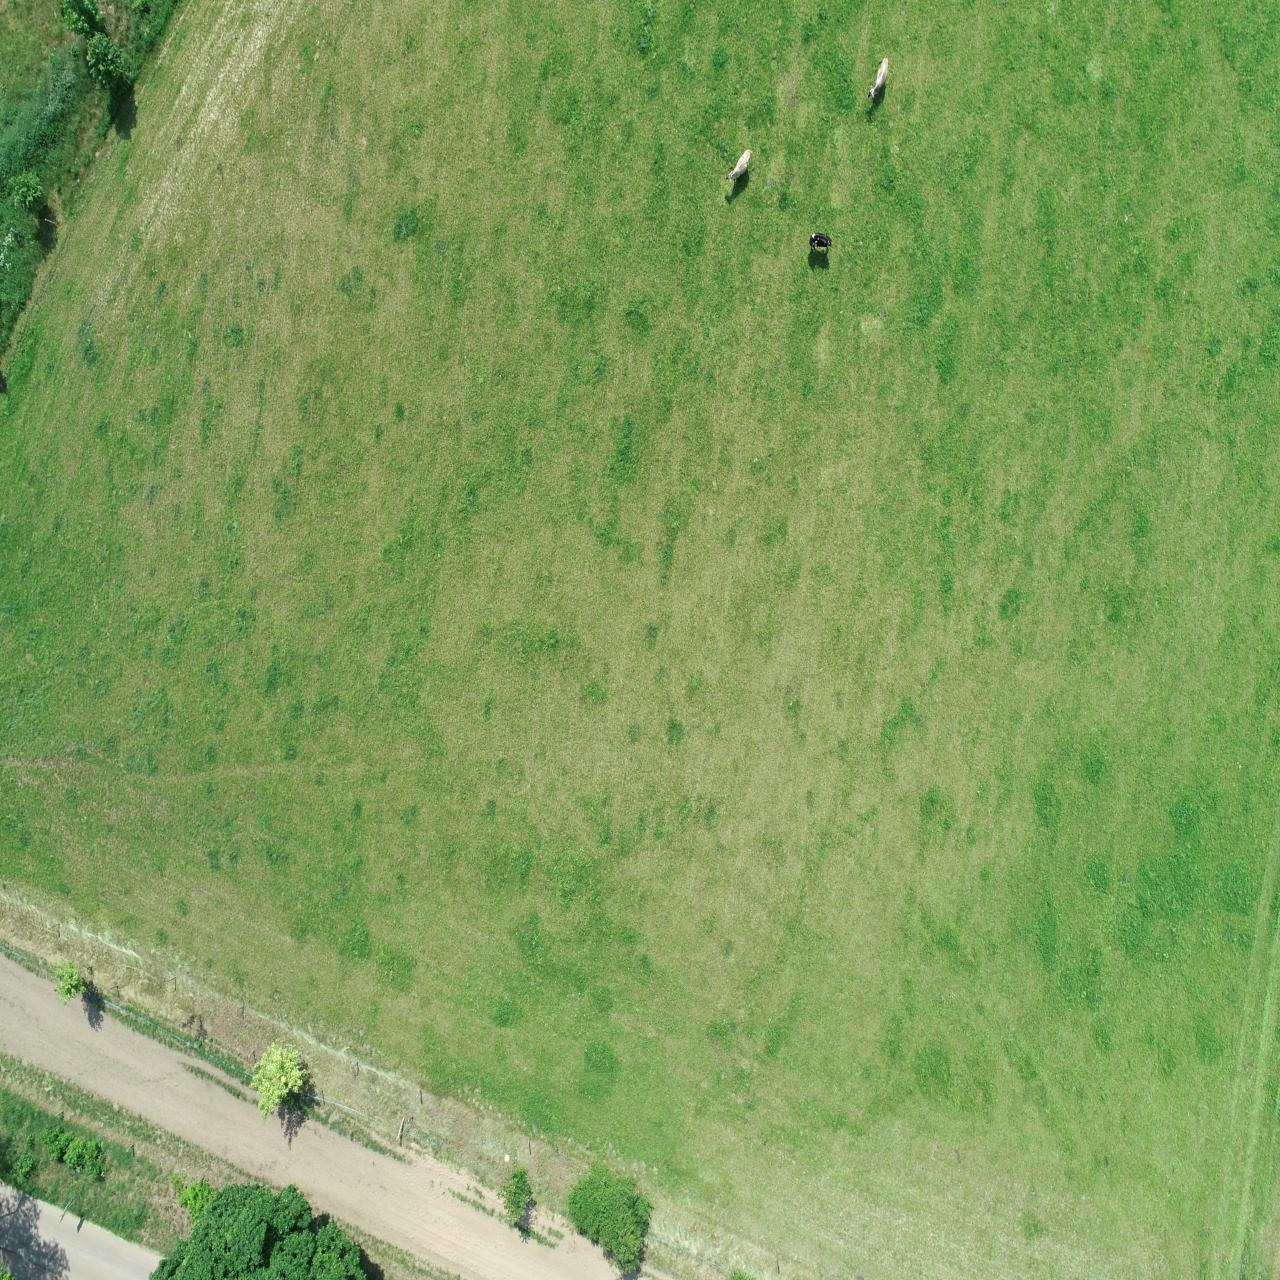cow: (863, 53, 892, 109), (722, 144, 756, 188), (808, 230, 835, 259)
